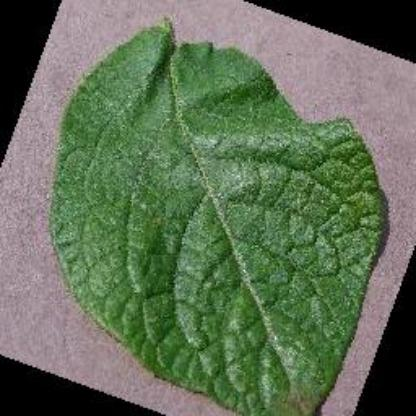Healthy-plant: (48, 19, 366, 416)
